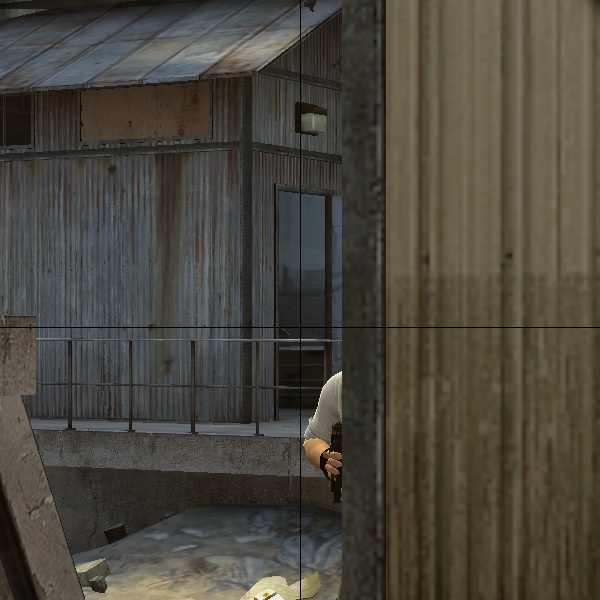t_body: (307, 359, 348, 599)
